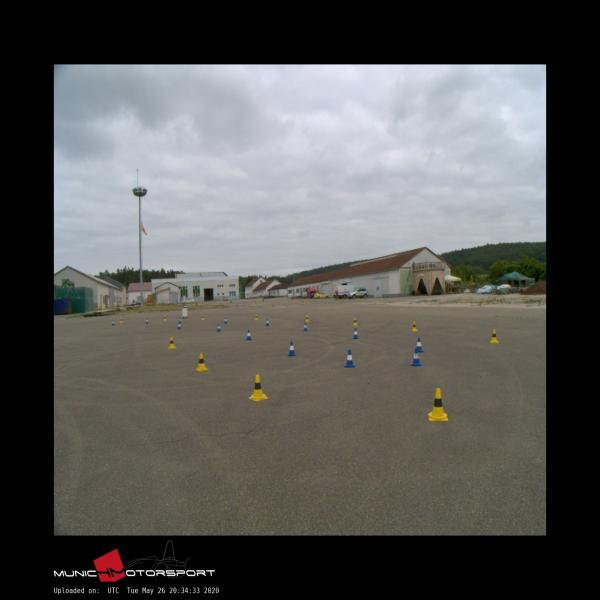blue_cone: (410, 348, 422, 366), (344, 349, 355, 367), (415, 337, 423, 352), (288, 342, 296, 356), (352, 327, 358, 338), (246, 331, 252, 340), (303, 322, 307, 331), (217, 323, 221, 332), (266, 319, 270, 326), (224, 318, 228, 324), (177, 323, 181, 329), (178, 317, 182, 323), (146, 318, 148, 324)
yellow_cone: (427, 388, 448, 419), (248, 375, 268, 400), (195, 353, 208, 370), (490, 329, 498, 343), (168, 336, 176, 348), (411, 322, 417, 330), (352, 318, 358, 326), (306, 315, 309, 322), (201, 315, 205, 320), (255, 314, 258, 320), (164, 316, 167, 320)
